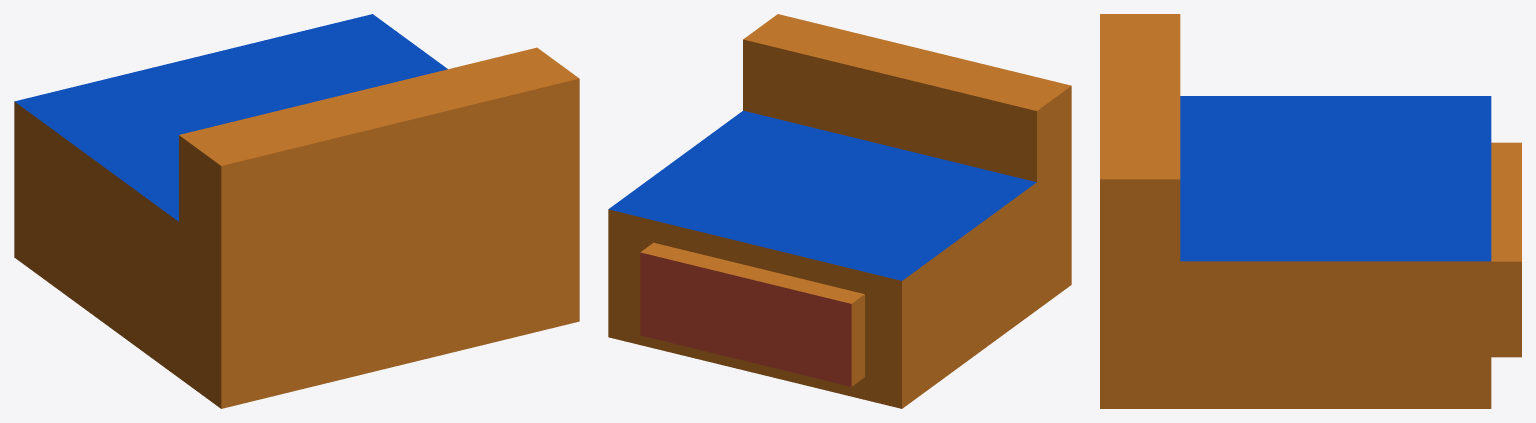
3 views of the same model, side by side, from view 1: azimuth 30°, elevation 25°; view 2: azimuth 150°, elevation 25°; view 3: azimuth 270°, elevation 25° (orthographic). The views are drawn at different scales.
Parts seen in each view (by area): view 1: Cube; view 2: Cube; view 3: Cube.
Boxes of the visible parts, x1,y1,x2,y2 form: Cube: [14, 14, 579, 408]; Cube: [608, 14, 1071, 408]; Cube: [1100, 14, 1521, 408].
Bounding box in the file's own units: 100 × 64.79 × 108.
